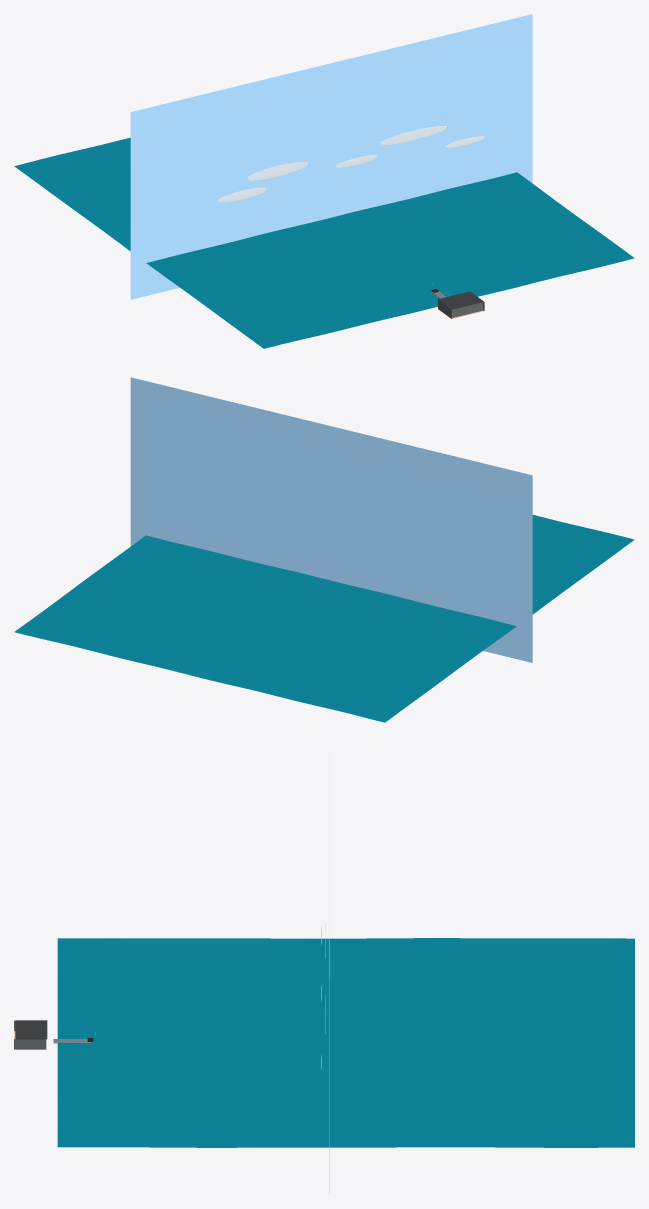
File: ModernBridgeCockpit_VR_v1.0.glb
3 views of the same model, one above another, from view 1: azimuth 30°, elevation 25°; view 2: azimuth 150°, elevation 25°; view 3: azimuth 270°, elevation 25° (orthographic). The views are drawn at different scales.
Parts seen in each view (by area): view 1: environment_sky_backdrop, environment_ocean_wave_preview, environment_cloud_soft_puff_1, environment_cloud_soft_puff_3, bridge_ceiling_panel; view 2: environment_sky_backdrop, environment_ocean_wave_preview; view 3: environment_ocean_wave_preview, bridge_ceiling_panel.
Part boxes in pixels (left/top/right/bottom): environment_sky_backdrop: left=130, top=14, right=532, bottom=299; environment_ocean_wave_preview: left=14, top=137, right=634, bottom=348; environment_cloud_soft_puff_1: left=247, top=162, right=308, bottom=180; environment_cloud_soft_puff_3: left=380, top=126, right=447, bottom=144; bridge_ceiling_panel: left=437, top=291, right=483, bottom=309; environment_sky_backdrop: left=130, top=377, right=532, bottom=662; environment_ocean_wave_preview: left=14, top=515, right=634, bottom=722; environment_ocean_wave_preview: left=57, top=938, right=634, bottom=1147; bridge_ceiling_panel: left=15, top=1020, right=47, bottom=1039.
Size of what is drawn, in the model's own units: 130 by 58 by 151.
